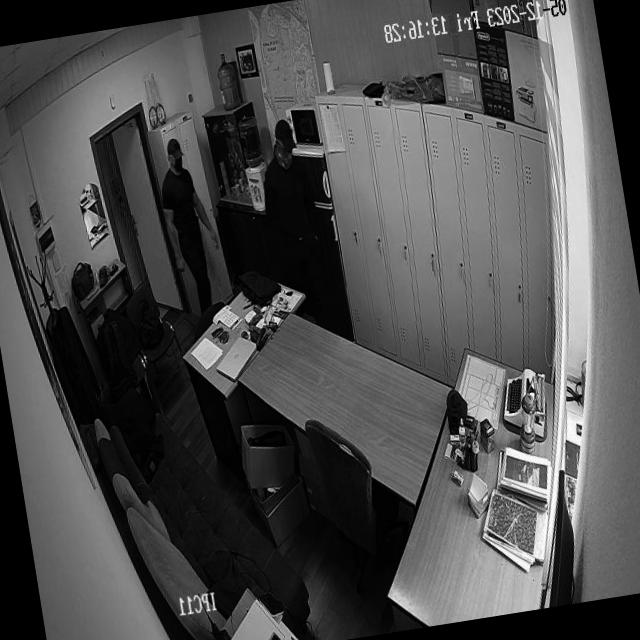person: (150, 131, 230, 304), (252, 115, 330, 276)
